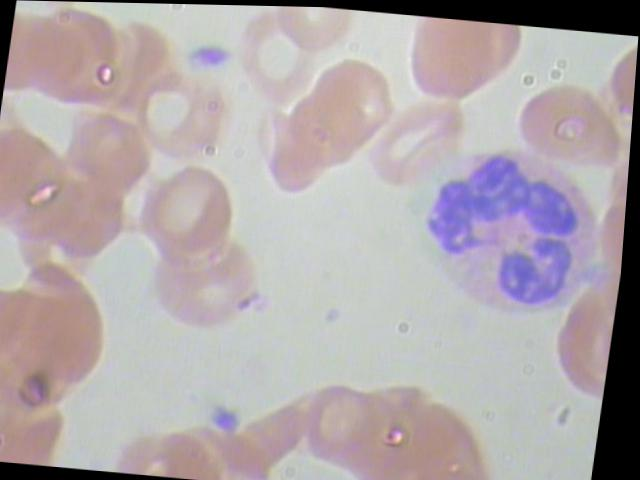Platelets: (185, 34, 235, 75), (204, 398, 255, 438)
Red Blood Cells: (3, 256, 128, 387), (291, 45, 401, 181), (140, 232, 278, 337), (511, 69, 636, 178), (127, 67, 247, 180), (140, 158, 259, 271), (394, 13, 530, 110), (20, 5, 136, 113), (50, 107, 166, 215), (29, 170, 145, 278), (245, 93, 349, 207), (369, 89, 478, 195), (231, 4, 328, 111), (294, 379, 389, 474), (0, 129, 75, 232), (268, 5, 358, 58)
White Blood Cells: (390, 135, 632, 327)
